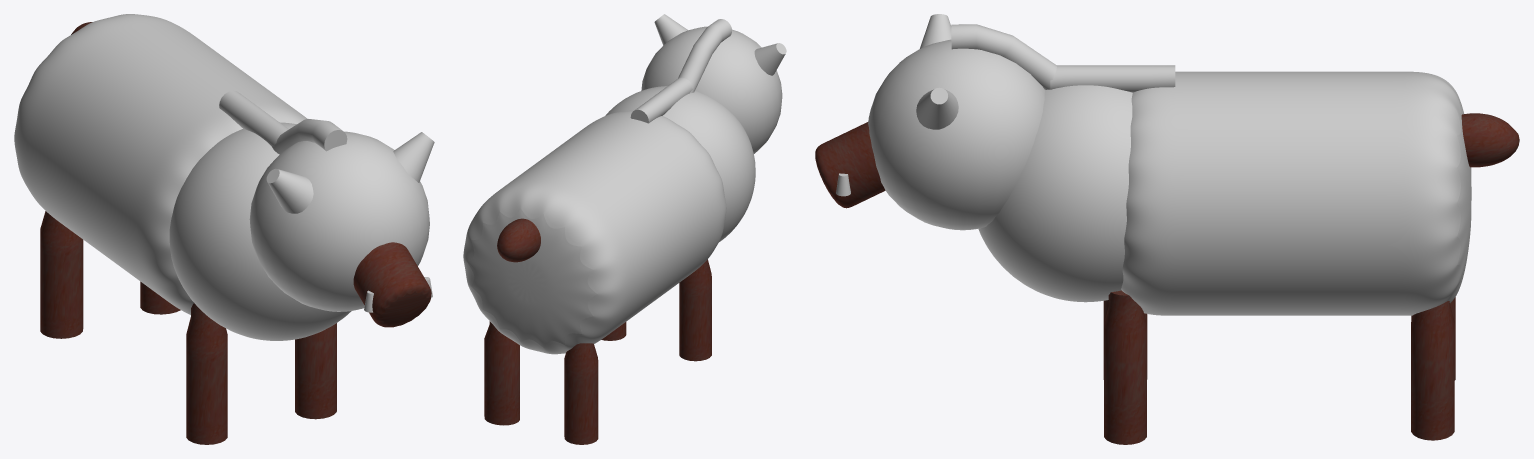
File: javali.FBX
The picture shows the model from 3 angles, left to right: view 1: azimuth 30°, elevation 25°; view 2: azimuth 150°, elevation 25°; view 3: azimuth 270°, elevation 25°; orthographic projection. The views are drawn at different scales.
Visible parts, largest first — view 1: Cylinder003; view 2: Cylinder003; view 3: Cylinder003.
Boxes of the visible parts, x1,y1,x2,y2 form: Cylinder003: (14,14,434,444); Cylinder003: (463,14,786,444); Cylinder003: (815,14,1519,444).
Size of the model in its own units: 38.3 by 65.34 by 110.
